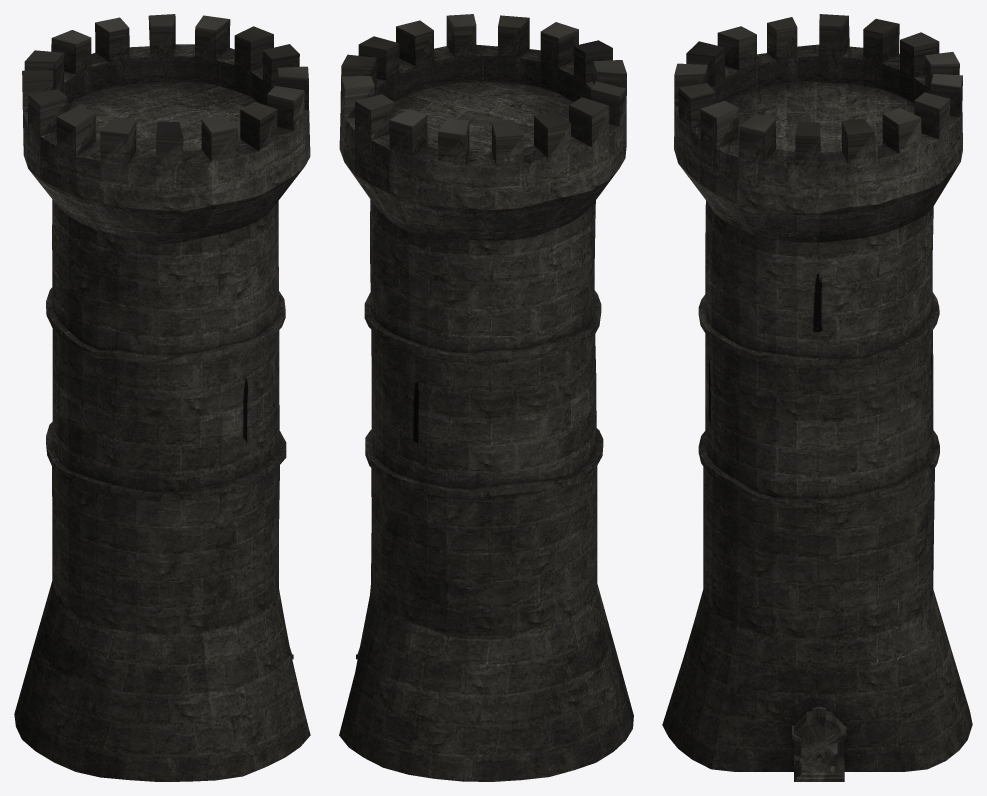
Rendered from Tower.fbx.
3 renders of one model, left to right at view 1: azimuth 30°, elevation 25°; view 2: azimuth 150°, elevation 25°; view 3: azimuth 270°, elevation 25°, orthographic.
Parts seen in each view (by area): view 1: BaseTower; view 2: BaseTower; view 3: BaseTower, Door.
Boxes of the visible parts, x1,y1,x2,y2 form: BaseTower: (14, 14, 310, 781); BaseTower: (339, 14, 633, 781); BaseTower: (662, 14, 972, 771); Door: (791, 706, 846, 781).
Size of the model in its own units: 1952 by 4747 by 2043.
